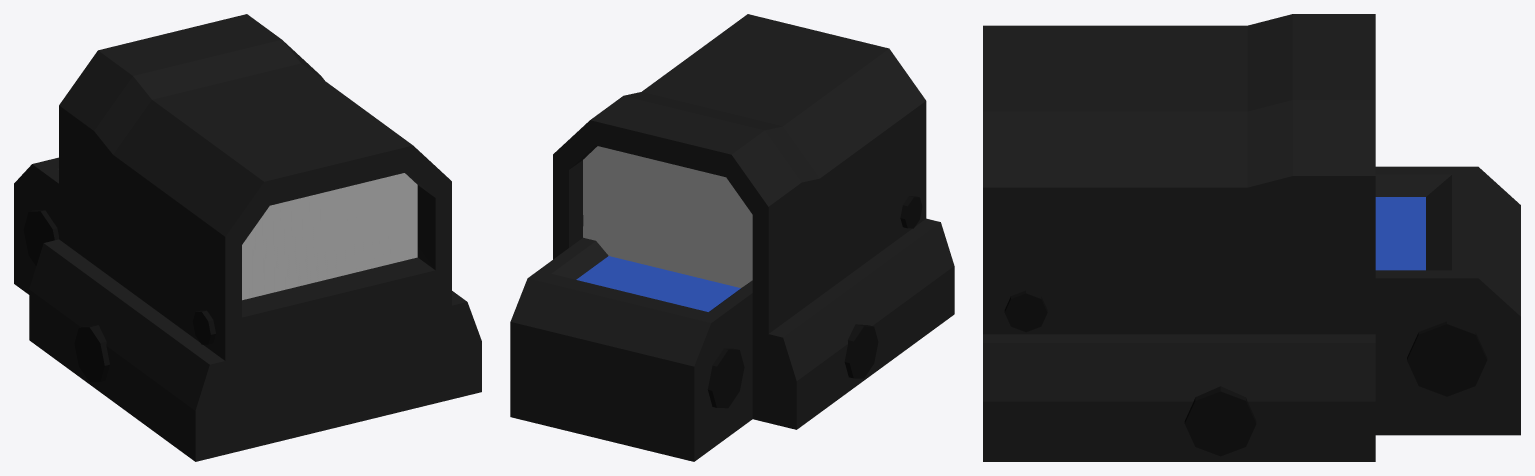
File: scene_5CuVwjjGF8.glb
3 views of the same model, side by side, from view 1: azimuth 30°, elevation 25°; view 2: azimuth 150°, elevation 25°; view 3: azimuth 270°, elevation 25° (orthographic). The views are drawn at different scales.
Parts seen in each view (by area): view 1: Reflex_West; view 2: Reflex_West; view 3: Reflex_West.
Boxes of the visible parts, x1,y1,x2,y2 form: Reflex_West: (14, 14, 481, 461); Reflex_West: (510, 14, 954, 461); Reflex_West: (983, 14, 1520, 461).
Bounding box in the file's own units: 0.0492 × 0.0433 × 0.0654.
